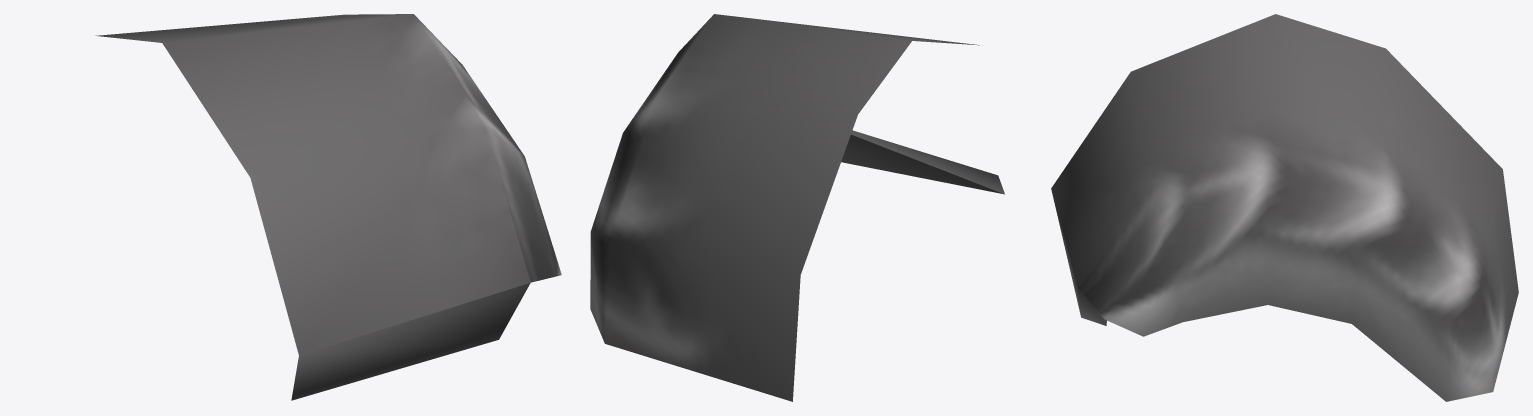
File: acc_24.glb
3 views of the same model, side by side, from view 1: azimuth 30°, elevation 25°; view 2: azimuth 150°, elevation 25°; view 3: azimuth 270°, elevation 25° (orthographic). The views are drawn at different scales.
Parts seen in each view (by area): view 1: vertex; view 2: vertex; view 3: vertex.
Part boxes in pixels (left/top/right/bottom): vertex: left=95, top=14, right=561, bottom=400; vertex: left=590, top=14, right=1004, bottom=401; vertex: left=1051, top=14, right=1518, bottom=401.
Bounding box in the file's own units: 0.6572 × 0.7213 × 1.1.
Materials: 1 (1 with a texture image).
